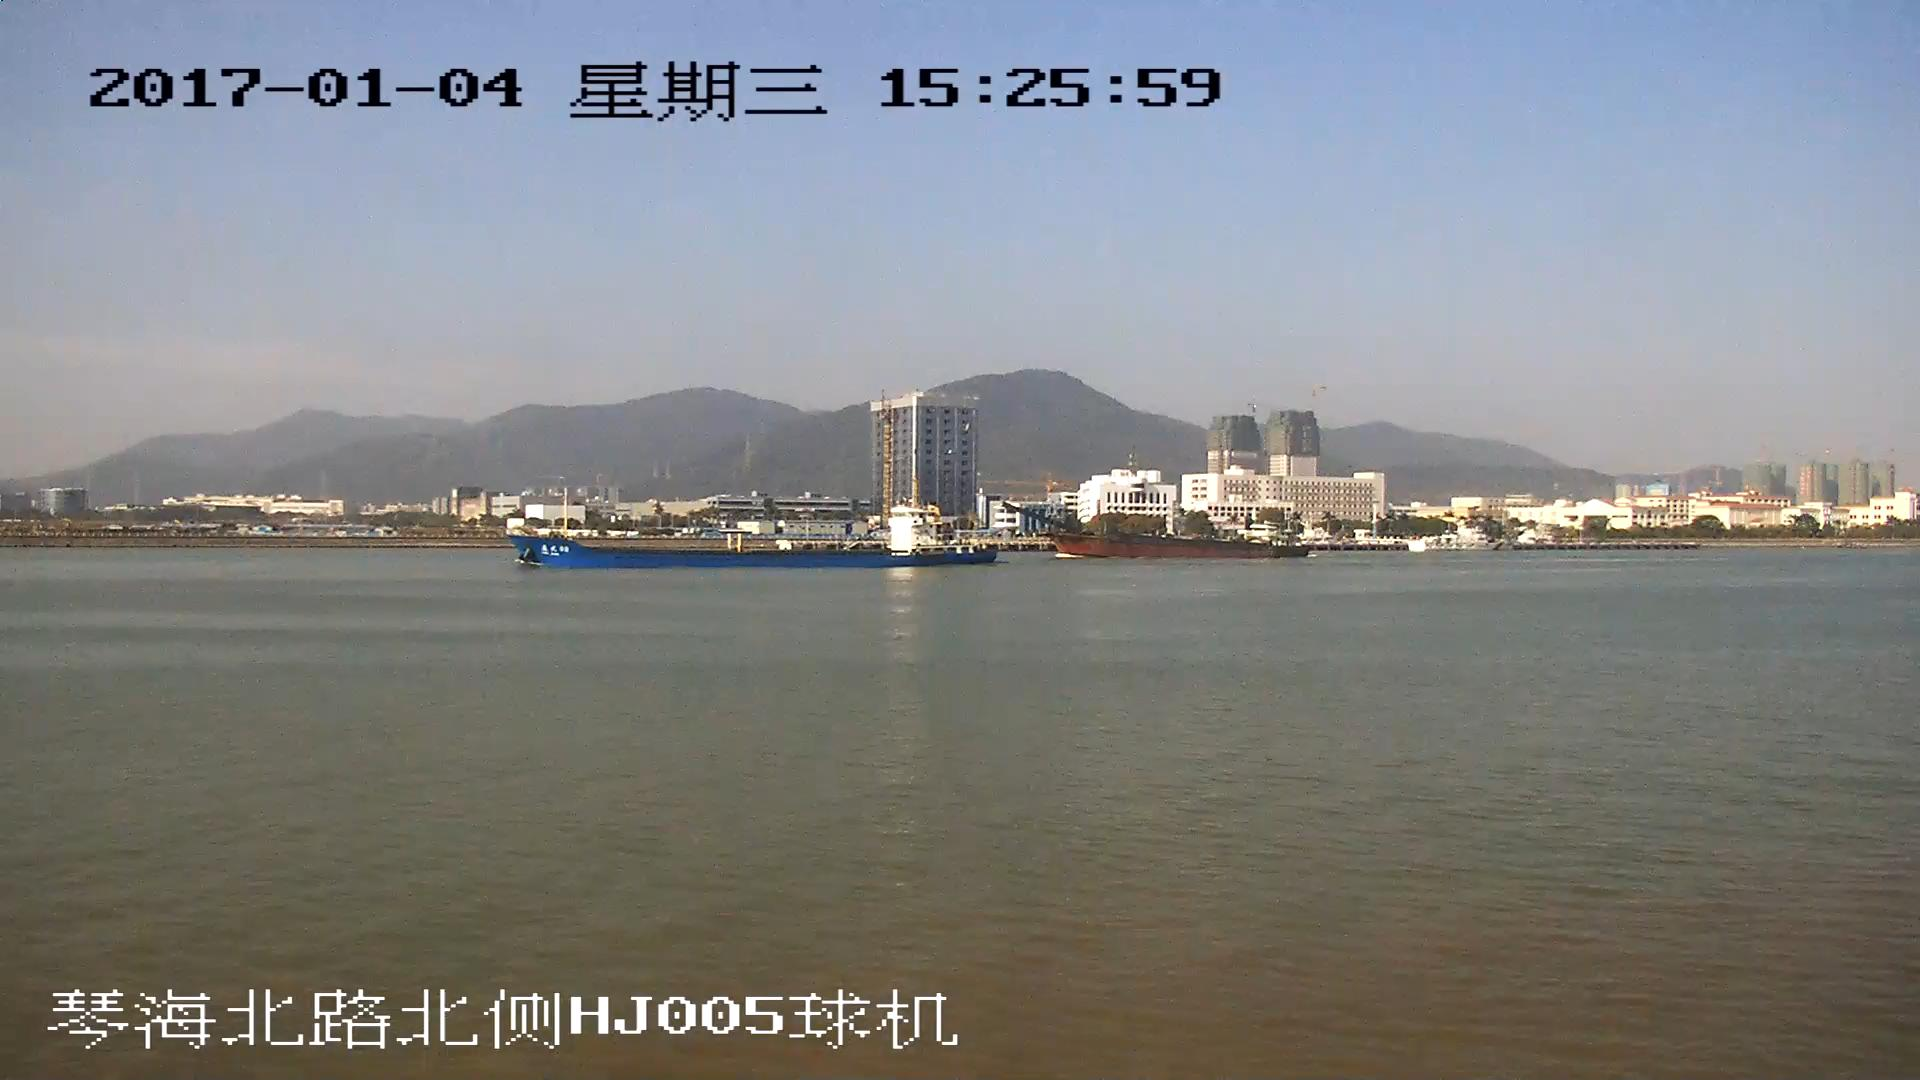bulk cargo carrier: (999, 499, 1308, 562)
general cargo ship: (519, 490, 985, 567)
